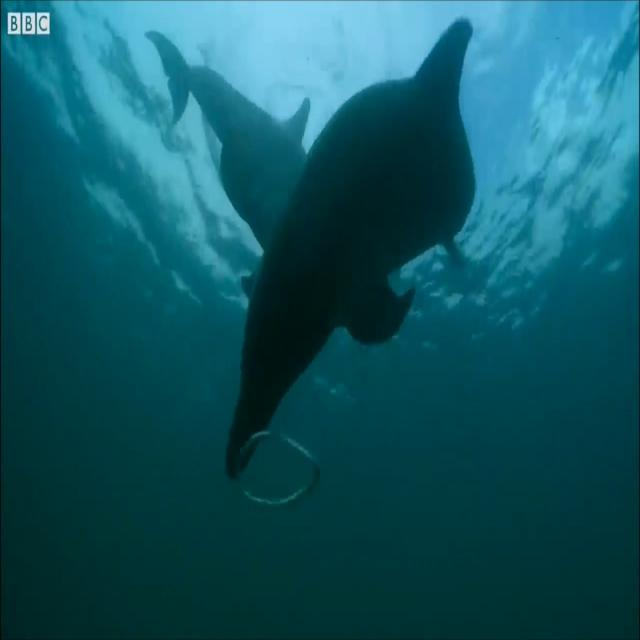Dolphin: (230, 23, 475, 482), (147, 22, 414, 340)
